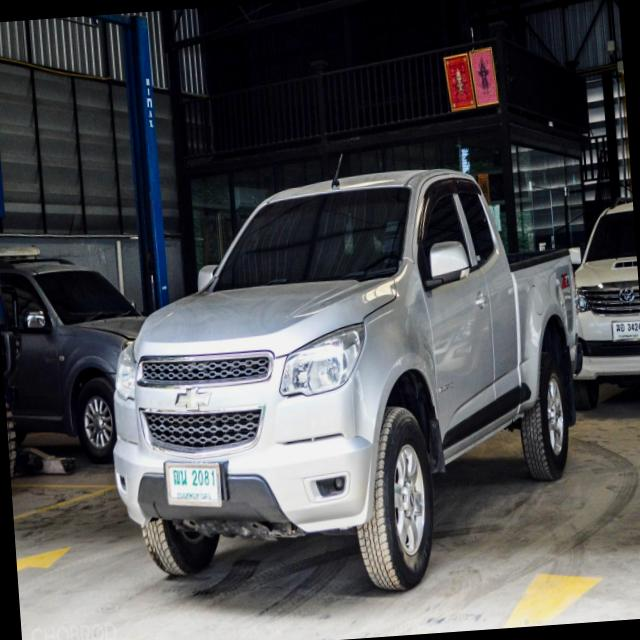license_plate: (162, 455, 225, 510)
